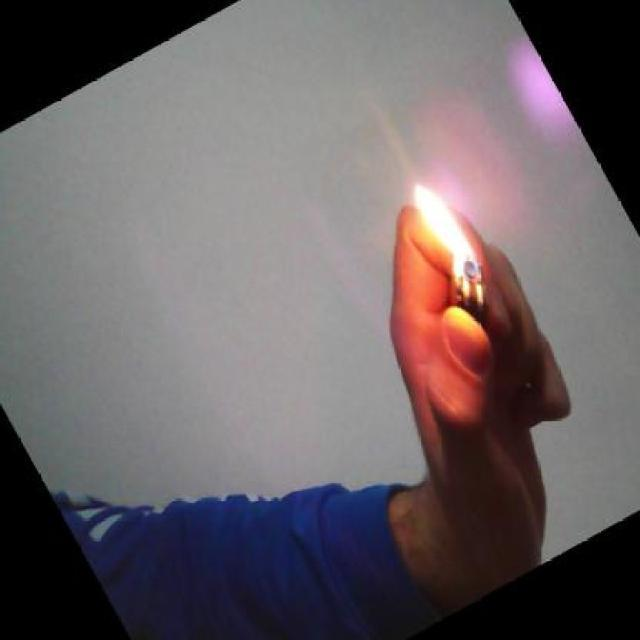Fire: (419, 174, 490, 289)
